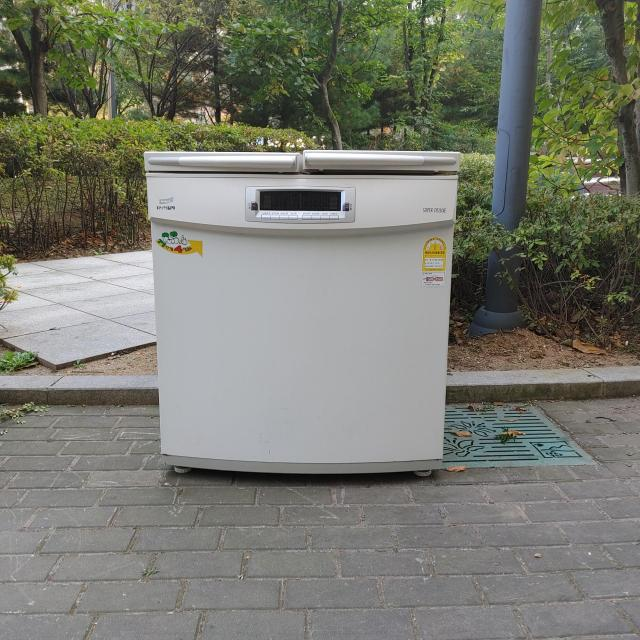refrigerator: (141, 149, 461, 478)
